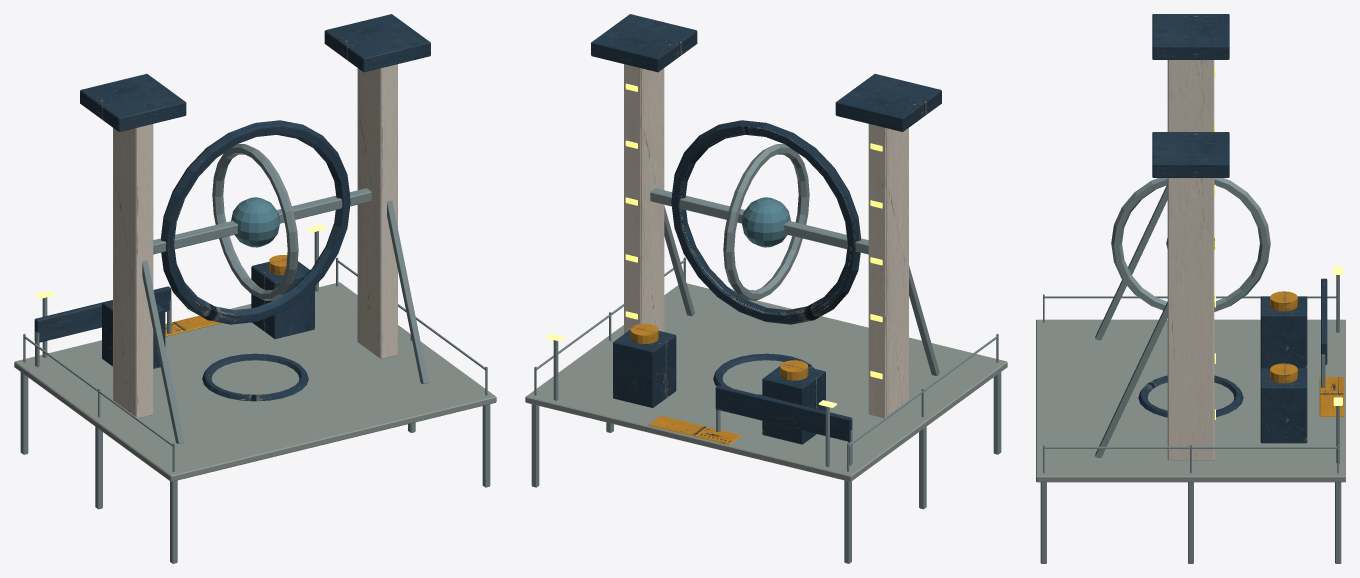
Rendered from polarity.glb.
The picture shows the model from 3 angles, left to right: view 1: azimuth 30°, elevation 25°; view 2: azimuth 150°, elevation 25°; view 3: azimuth 270°, elevation 25°; orthographic projection.
Visible parts, largest first — view 1: static_signature_deck, static_signature_paint, static_signature_steel, gravity_cradle_signature_paint, gyro_inner_signature_steel, gravity_cradle_signature_glass, gyro_core_signature_paint; view 2: static_signature_paint, static_signature_deck, static_signature_steel, gravity_cradle_signature_paint, gyro_inner_signature_steel, gravity_cradle_signature_glass, static_signature_amber, gyro_core_signature_paint; view 3: static_signature_deck, static_signature_paint, static_signature_steel, gyro_inner_signature_steel, gyro_core_signature_paint.
Part boxes in pixels (x1=…): static_signature_deck: x1=14, y1=282, x2=496, y2=481; static_signature_paint: x1=34, y1=14, x2=430, y2=418; static_signature_steel: x1=20, y1=188, x2=490, y2=563; gravity_cradle_signature_paint: x1=161, y1=120, x2=350, y2=324; gyro_inner_signature_steel: x1=212, y1=144, x2=298, y2=300; gravity_cradle_signature_glass: x1=231, y1=197, x2=280, y2=247; gyro_core_signature_paint: x1=202, y1=353, x2=308, y2=401; static_signature_paint: x1=591, y1=14, x2=941, y2=444; static_signature_deck: x1=525, y1=283, x2=1007, y2=481; static_signature_steel: x1=531, y1=188, x2=1001, y2=563; gravity_cradle_signature_paint: x1=671, y1=120, x2=860, y2=324; gyro_inner_signature_steel: x1=723, y1=144, x2=809, y2=300; gravity_cradle_signature_glass: x1=741, y1=197, x2=790, y2=247; static_signature_amber: x1=546, y1=83, x2=882, y2=407; gyro_core_signature_paint: x1=713, y1=353, x2=814, y2=395; static_signature_deck: x1=1036, y1=319, x2=1345, y2=482; static_signature_paint: x1=1152, y1=14, x2=1344, y2=460; static_signature_steel: x1=1040, y1=185, x2=1341, y2=563; gyro_inner_signature_steel: x1=1111, y1=178, x2=1270, y2=311; gyro_core_signature_paint: x1=1138, y1=375, x2=1243, y2=417.
Bounding box in the file's own units: 24 × 28.4 × 20.
Materials: 5 (1 with a texture image).
